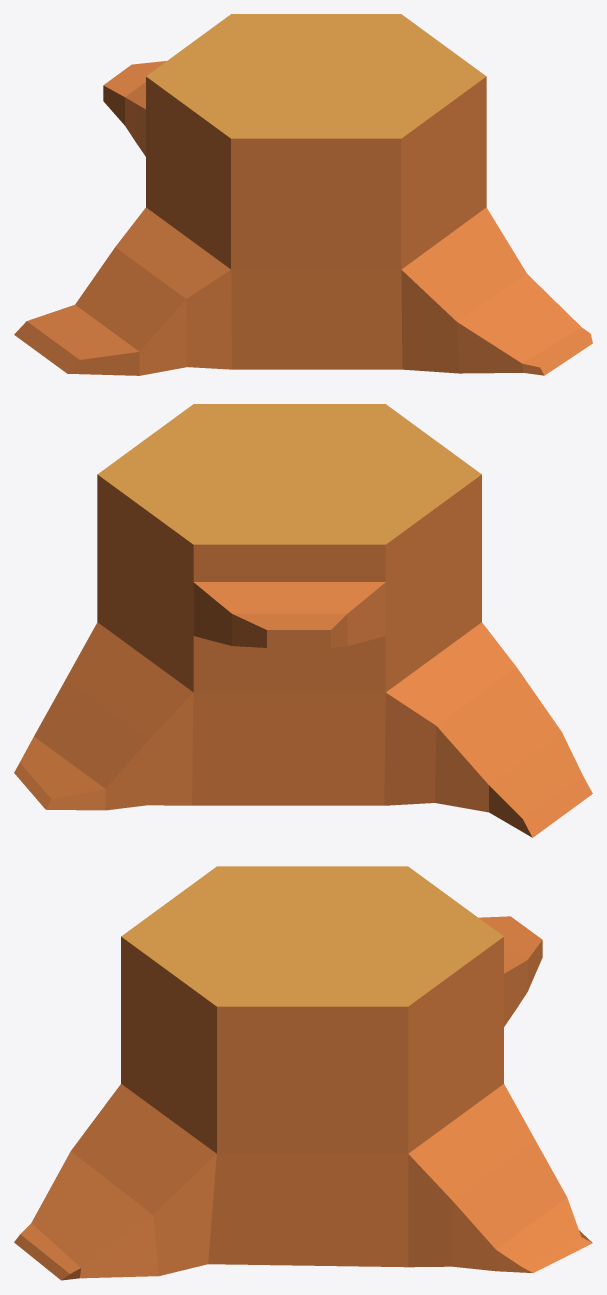
Rendered from TreeStump.fbx.
3 views of the same model, one above another, from view 1: azimuth 30°, elevation 25°; view 2: azimuth 150°, elevation 25°; view 3: azimuth 270°, elevation 25° (orthographic). The views are drawn at different scales.
Parts seen in each view (by area): view 1: Tree Stump; view 2: Tree Stump; view 3: Tree Stump.
Part boxes in pixels (x1,y1,x2,y2): Tree Stump: [14, 14, 592, 375]; Tree Stump: [14, 404, 592, 837]; Tree Stump: [14, 866, 592, 1280].
Size of the model in its own units: 288 by 149 by 302.
